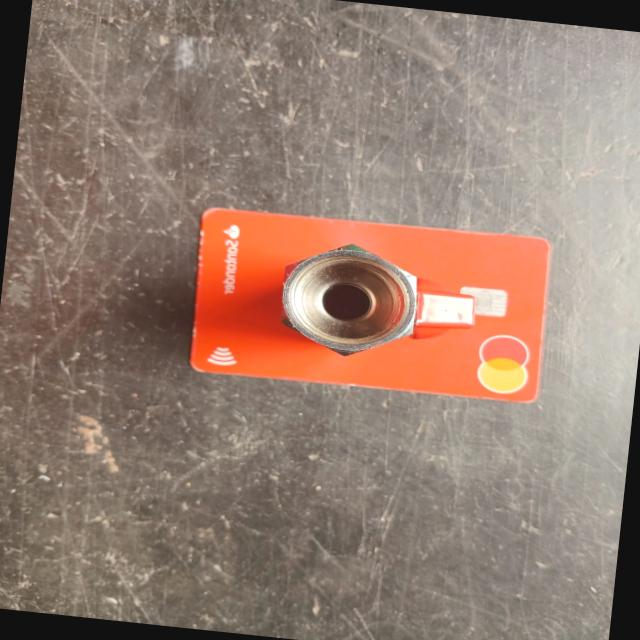cartao: (186, 202, 555, 407)
rosca_interna: (275, 236, 479, 368)
